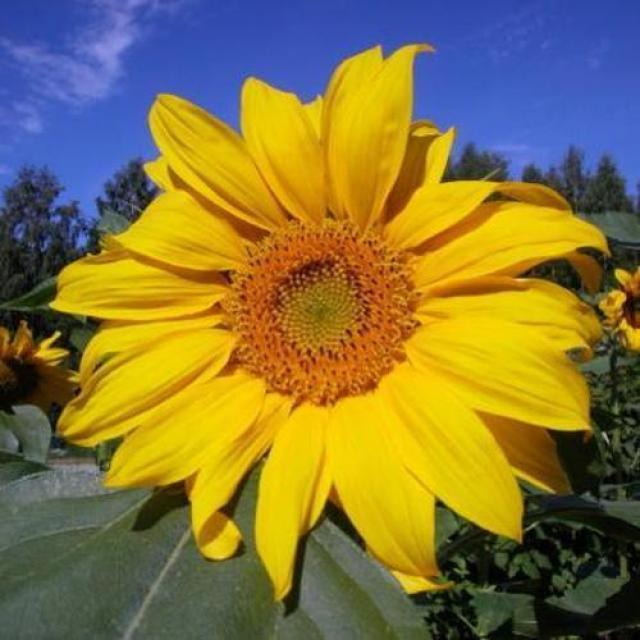sunflower: (44, 26, 608, 618)
